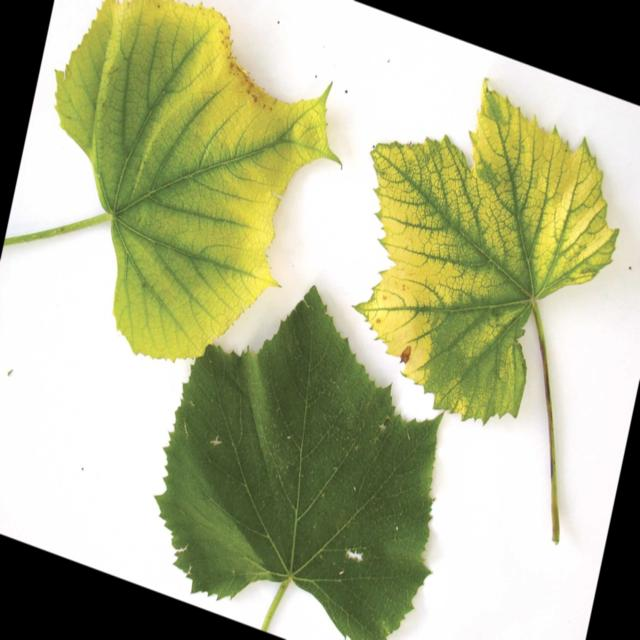Chlorosis: (25, 15, 322, 308), (362, 107, 622, 435)
